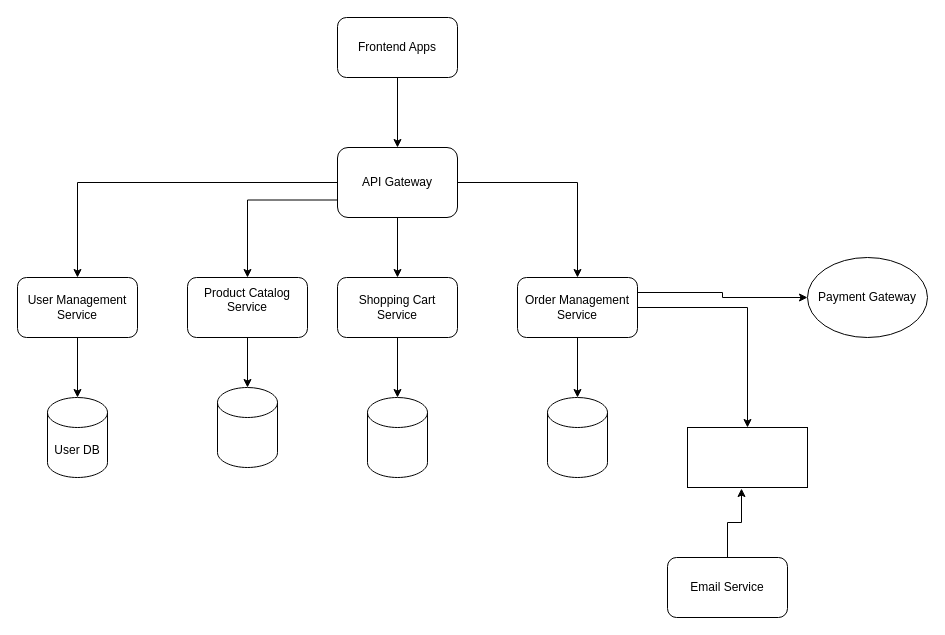
This 945x635 diagram has some shape labels left out. Here are the shapes that lost their labels. From the top down, the centre of each, then its label:
At (247,427): "Product DB".
At (397,437): "Cart DB".
At (577,437): "Order DB".
At (747,457): "Message Broker (Event Bus)".
